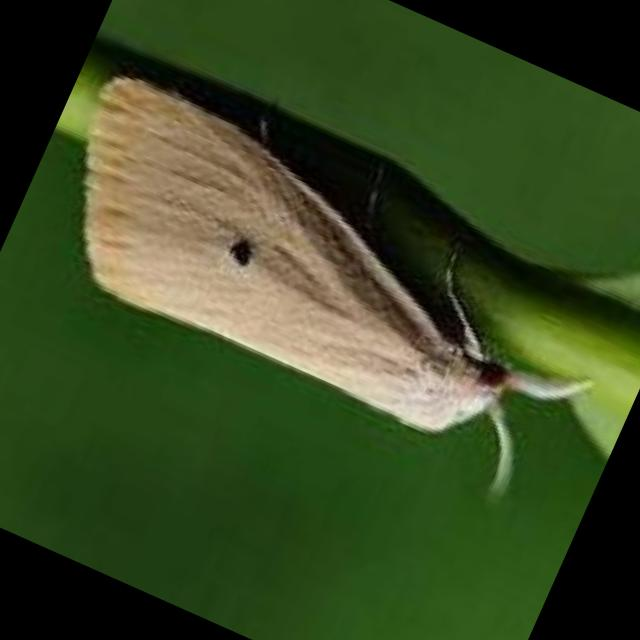stem-borer: (12, 57, 638, 520)
